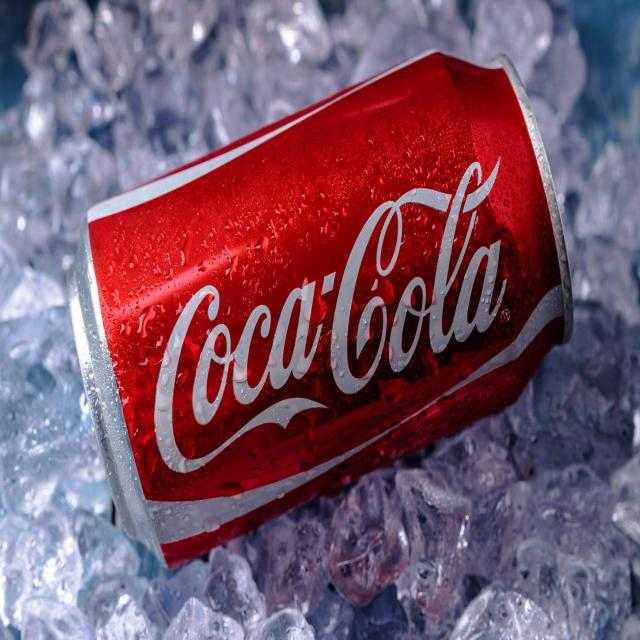cocacola: (70, 36, 573, 578)
